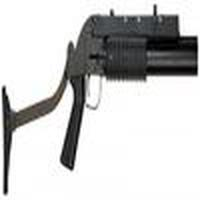gun: (2, 14, 196, 189)
